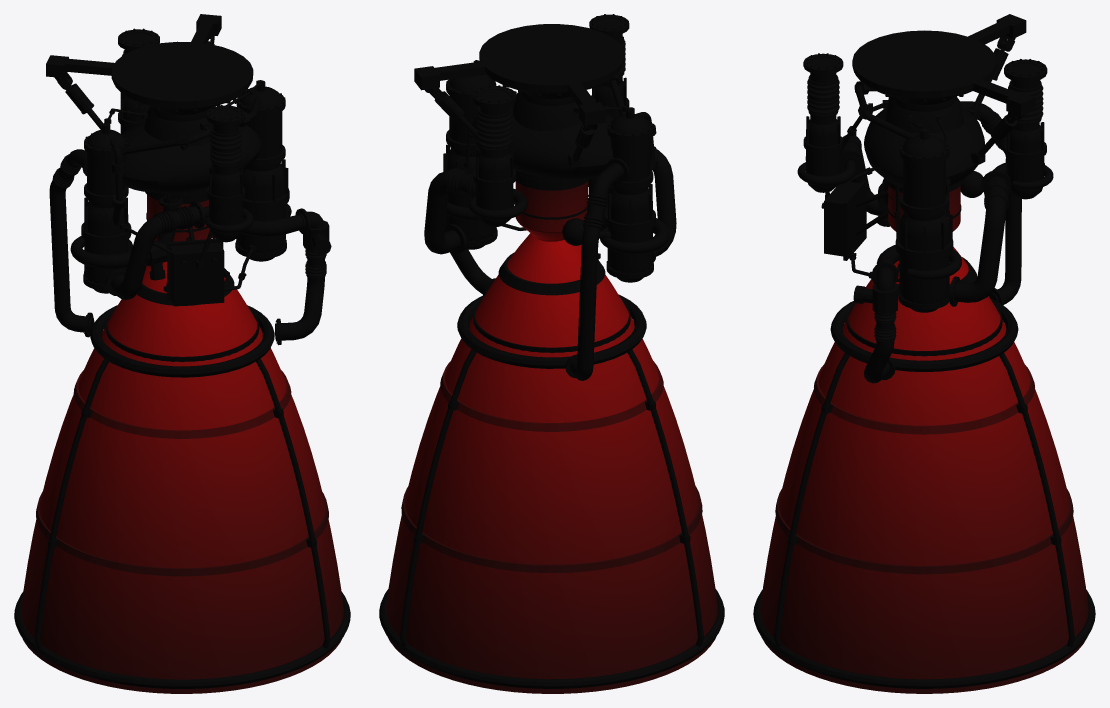
Rendered from eng_hydrolox_high_efficiency.fbx.
The picture shows the model from 3 angles, left to right: view 1: azimuth 30°, elevation 25°; view 2: azimuth 150°, elevation 25°; view 3: azimuth 270°, elevation 25°; orthographic projection. The views are drawn at different scales.
Parts seen in each view (by area): view 1: eng_hydrolox_high_efficiency_LOD0; view 2: eng_hydrolox_high_efficiency_LOD0; view 3: eng_hydrolox_high_efficiency_LOD0.
Part boxes in pixels (x1,y1,x2,y2): eng_hydrolox_high_efficiency_LOD0: (14,14,350,693); eng_hydrolox_high_efficiency_LOD0: (379,14,724,693); eng_hydrolox_high_efficiency_LOD0: (753,14,1095,693).
Size of what is drawn, in the model's own units: 2.38 by 4.3 by 2.37.
